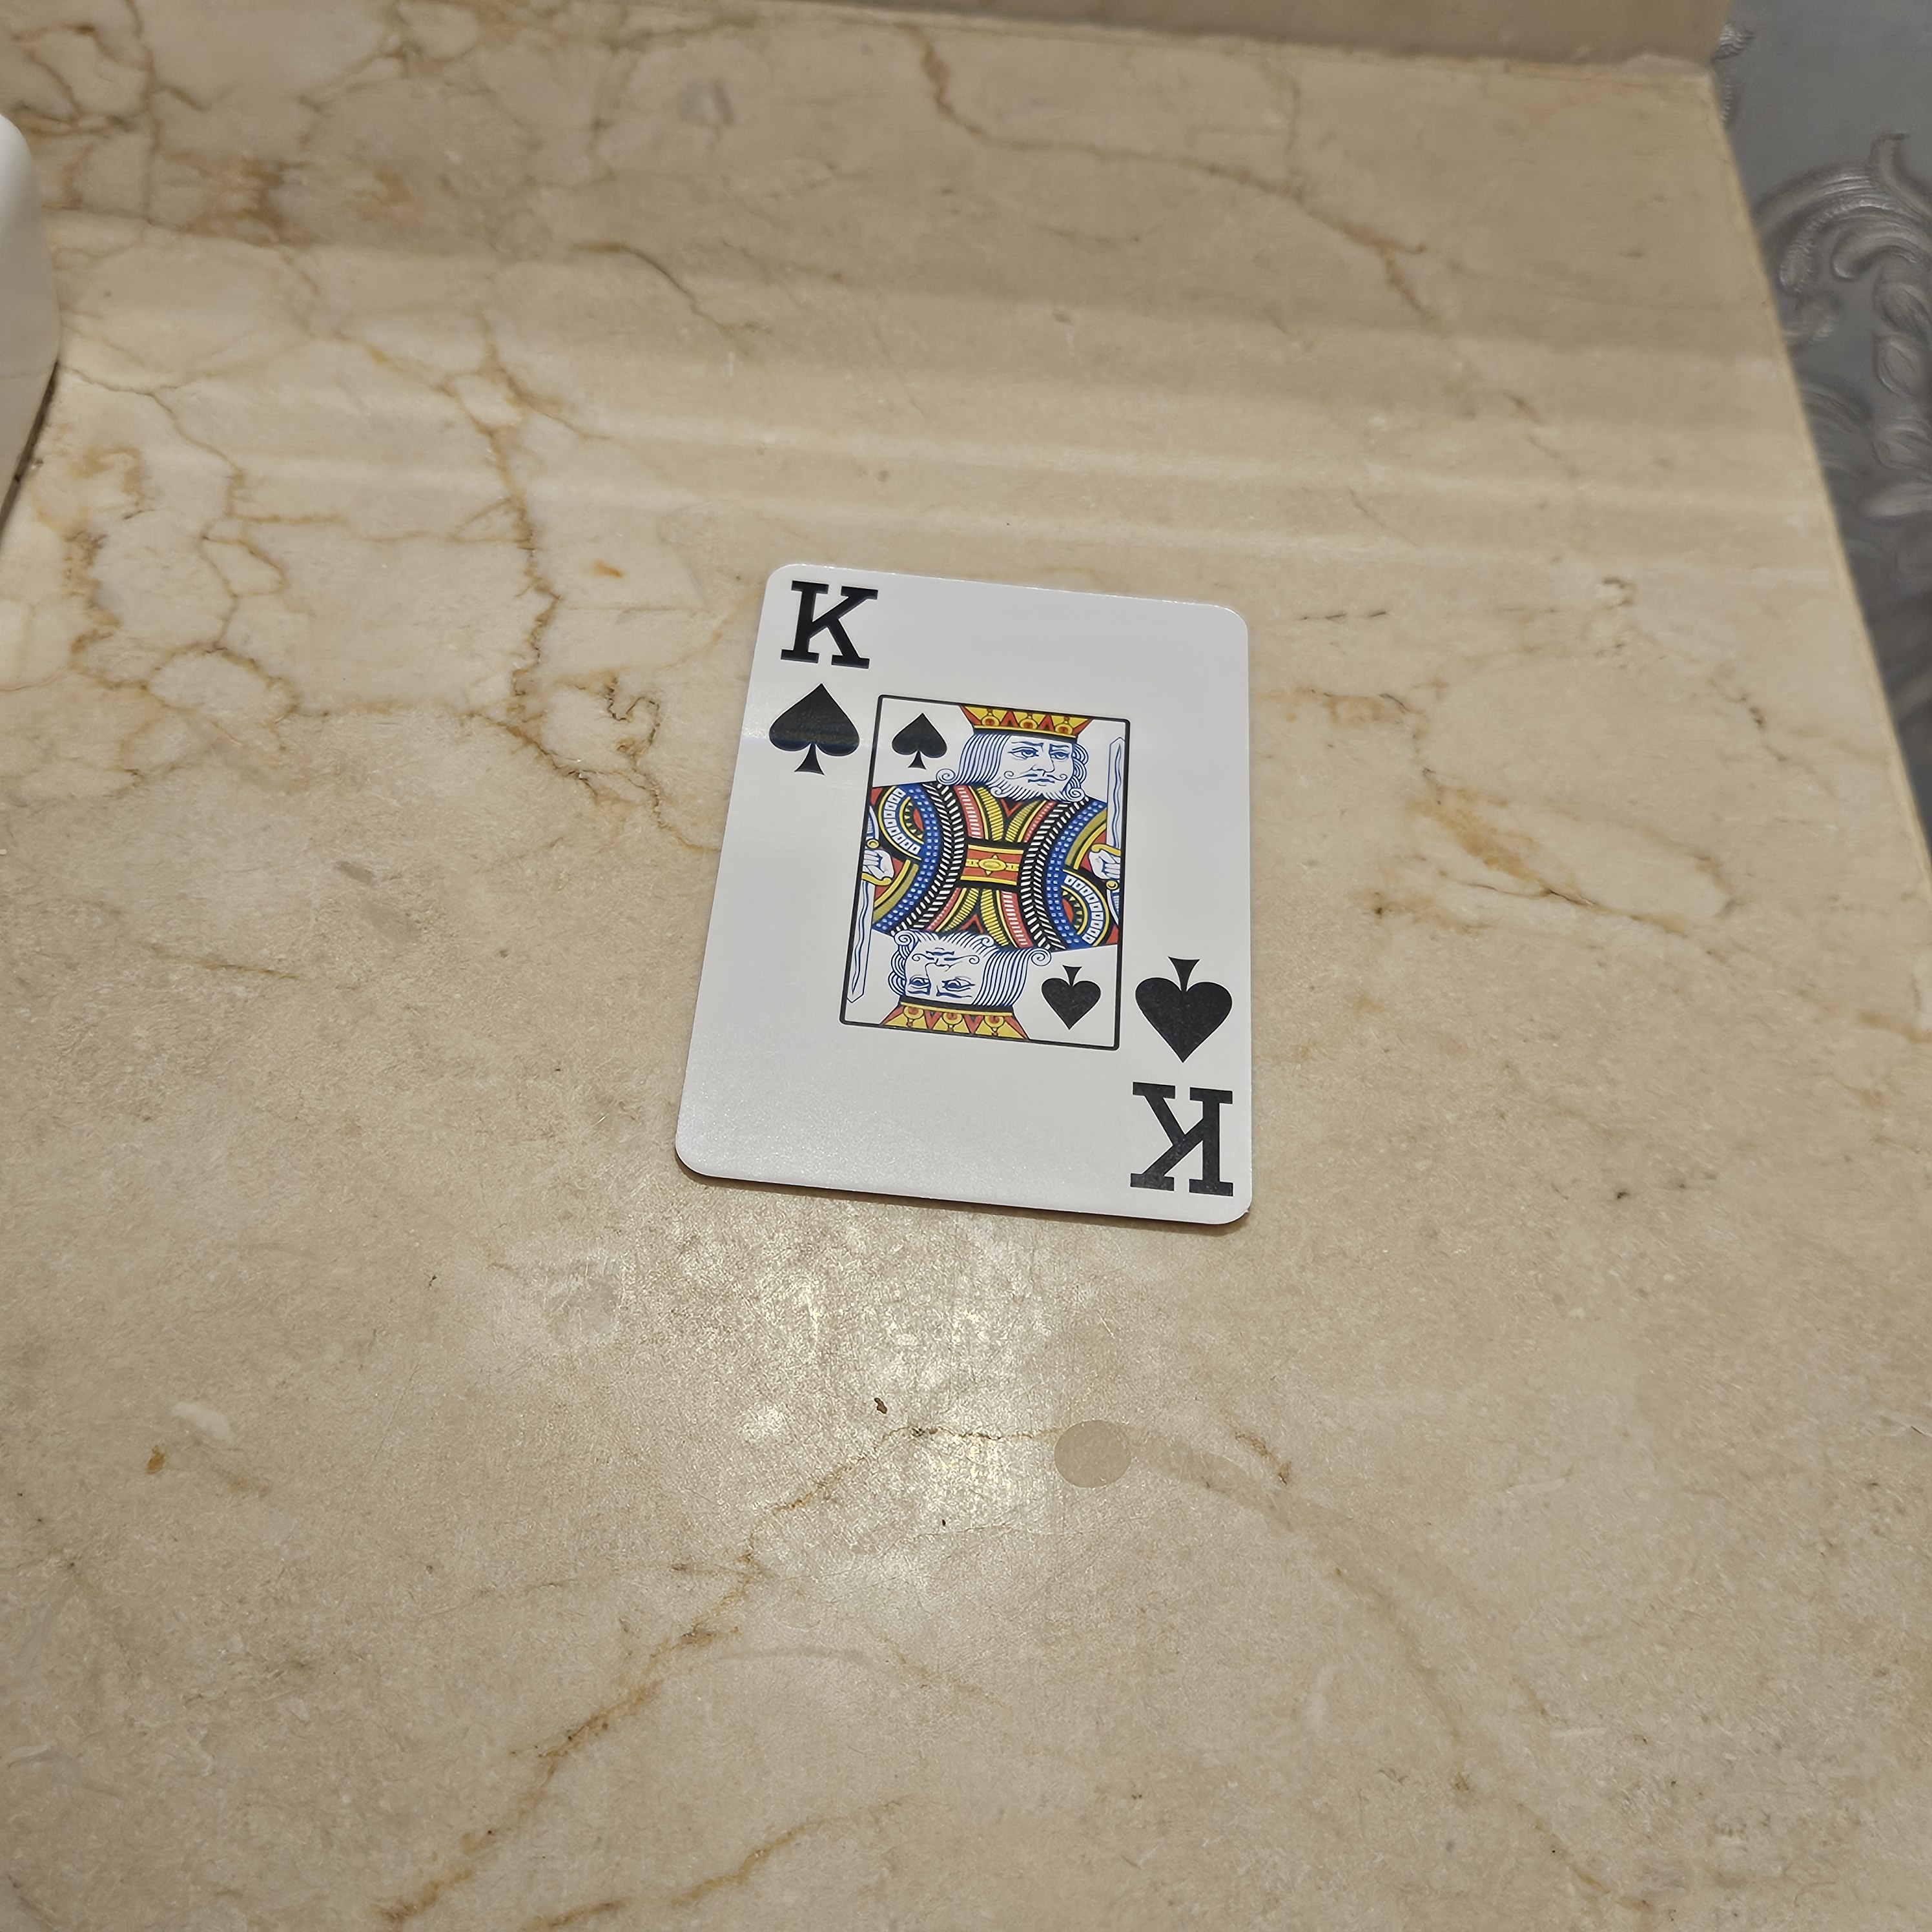KE: (1116, 939, 1261, 1224), (734, 540, 885, 780)
